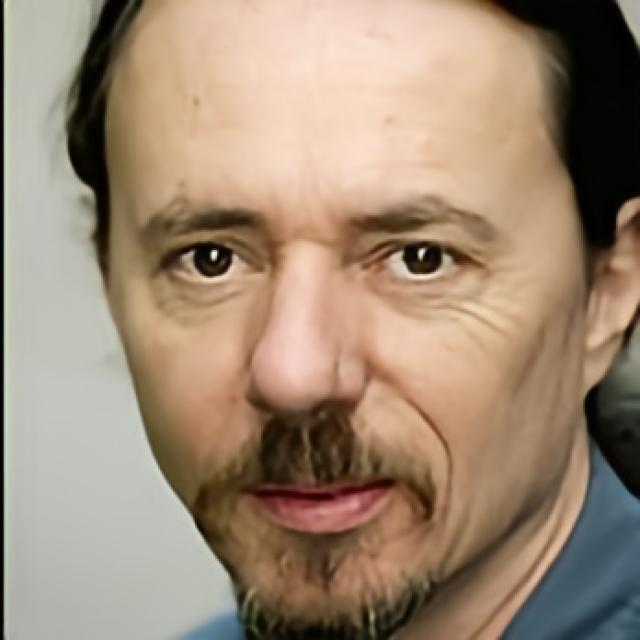neutral: (105, 0, 588, 640)
